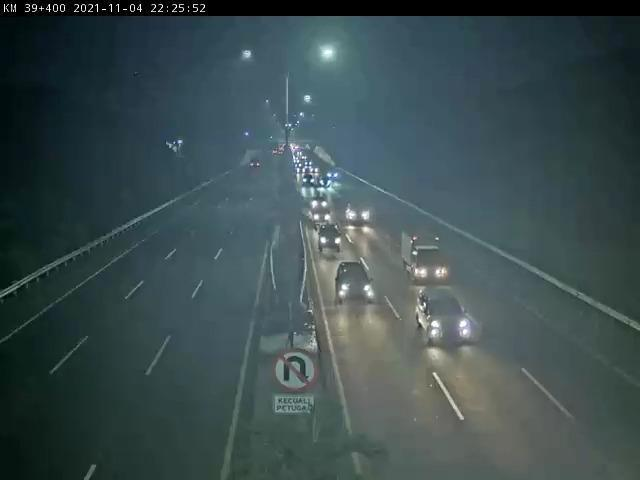car: (415, 287, 472, 345), (336, 261, 376, 306), (316, 223, 344, 253), (346, 201, 372, 226), (313, 206, 333, 226)
truck: (398, 227, 448, 284)
